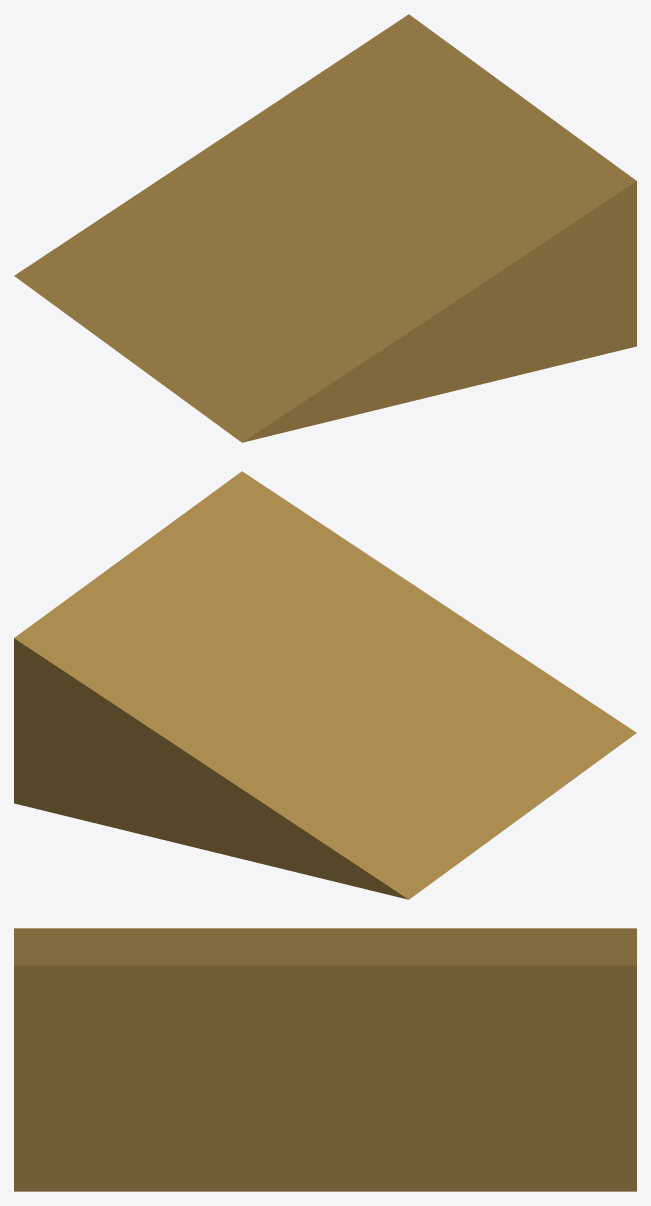
Rendered from BlockSandAngle.glb.
3 views of the same model, one above another, from view 1: azimuth 30°, elevation 25°; view 2: azimuth 150°, elevation 25°; view 3: azimuth 270°, elevation 25° (orthographic). The views are drawn at different scales.
Parts seen in each view (by area): view 1: Block Sand Angle 1; view 2: Block Sand Angle 1; view 3: Block Sand Angle 1.
Boxes of the visible parts, x1=… form: Block Sand Angle 1: x1=14, y1=14, x2=636, y2=442; Block Sand Angle 1: x1=14, y1=471, x2=636, y2=899; Block Sand Angle 1: x1=14, y1=928, x2=636, y2=1191.
Size of the model in its own units: 1 by 0.4 by 1.
